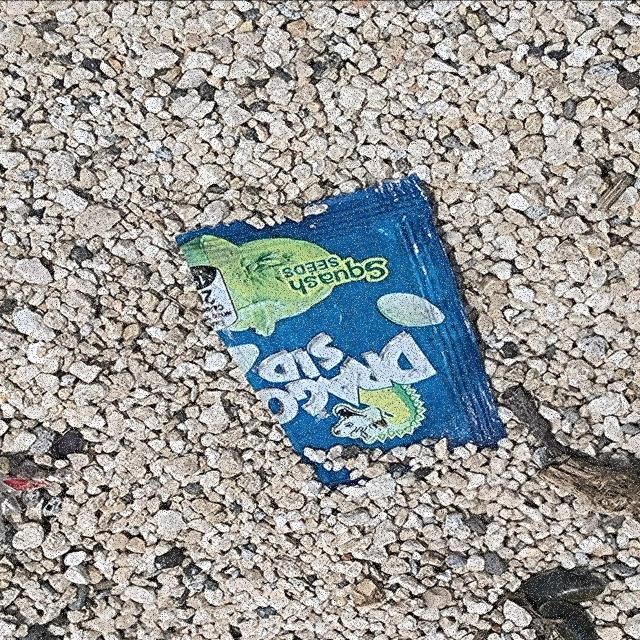plastic_waste: (173, 172, 509, 488)
